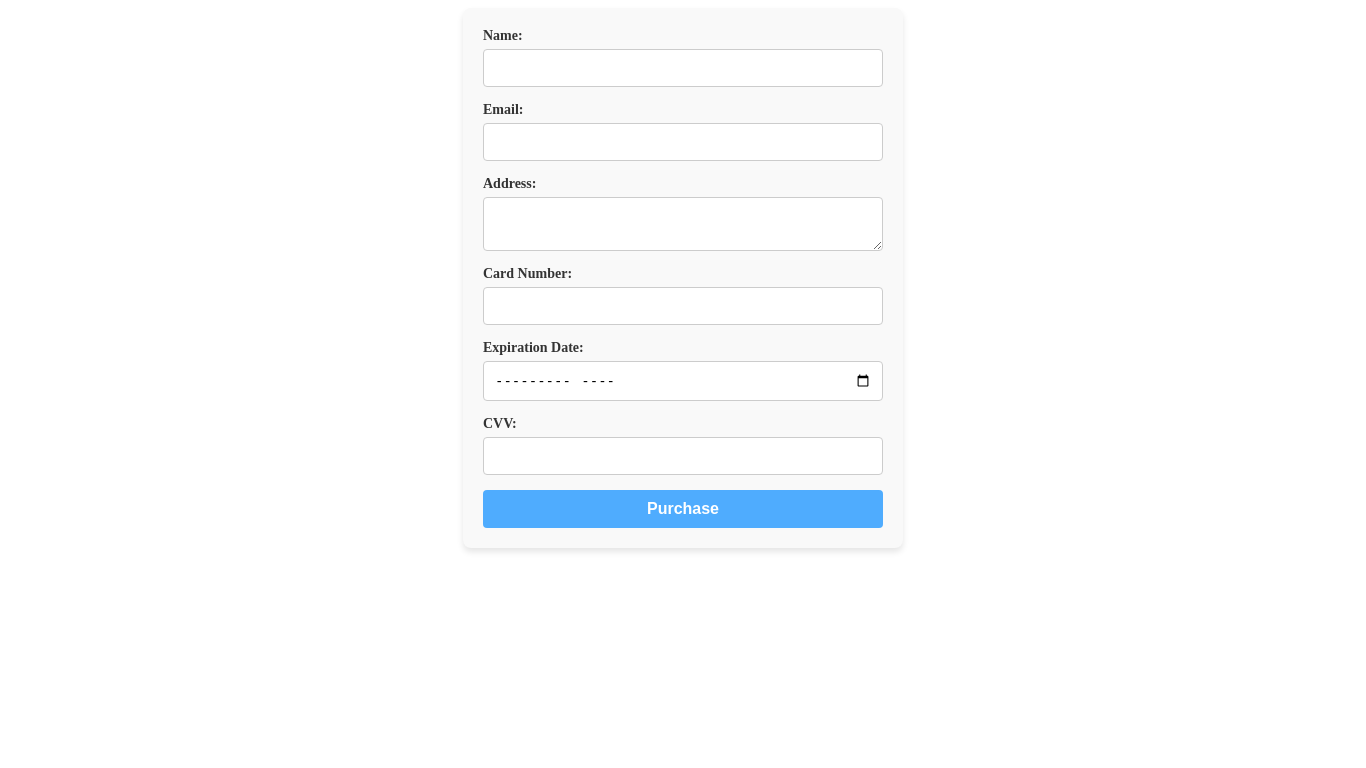
Test: form correctly handles purchases
Note: Simulate user input
Type "John Doe" into the field labelled "Name:" at (683, 68), box [483, 49, 883, 87]
Type "john.doe@example.com" into the field labelled "Email:" at (683, 142), box [483, 123, 883, 161]
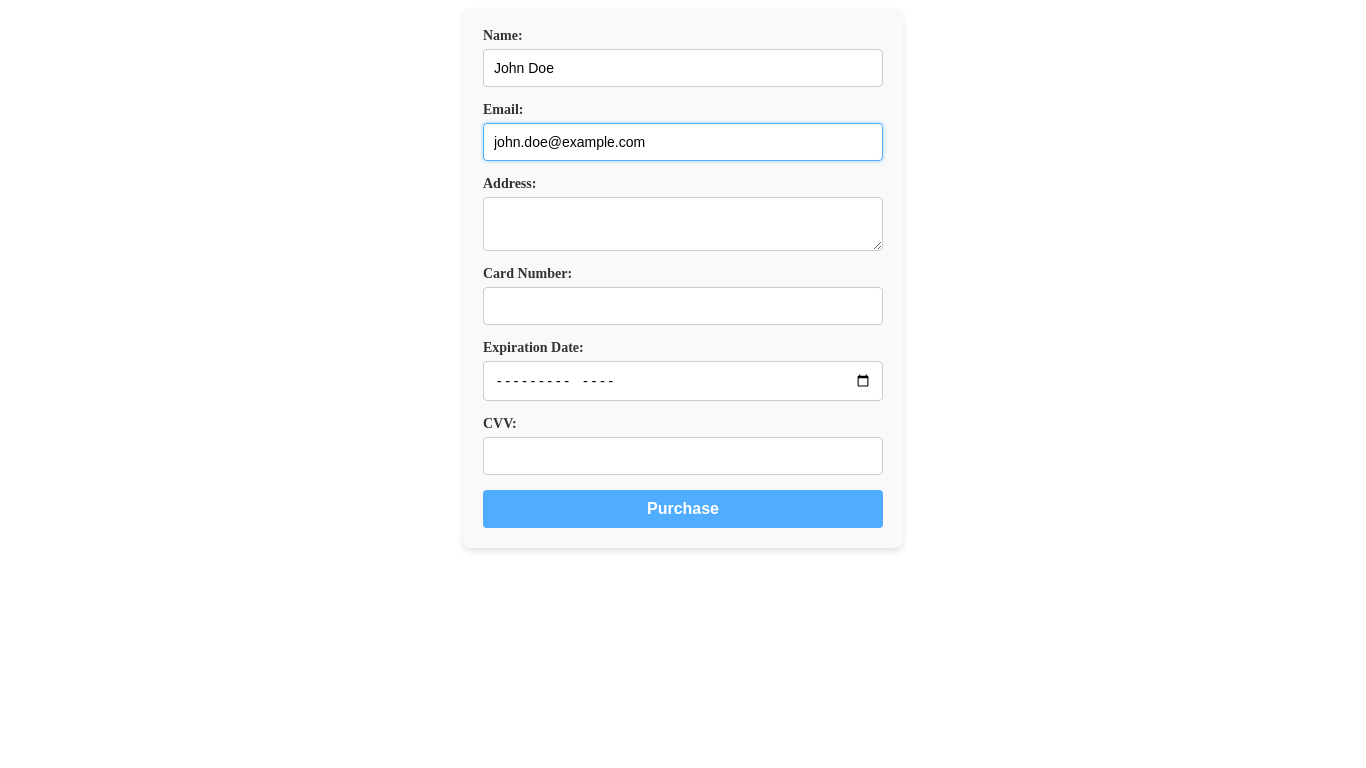
Type "123 Main St" into the text box labelled "Address:" at (683, 224), box [483, 197, 883, 251]
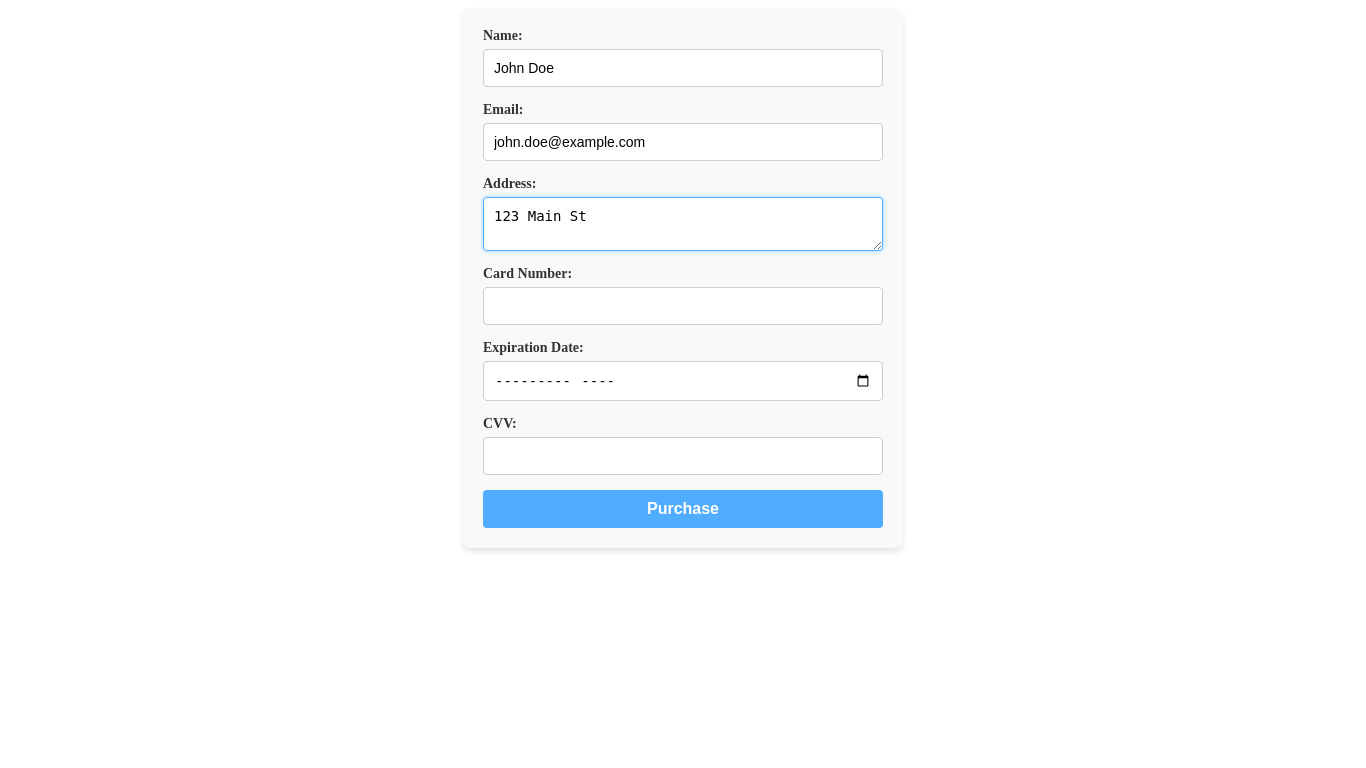
Type "4111111111111111" into the field labelled "Card Number:" at (683, 306), box [483, 287, 883, 325]
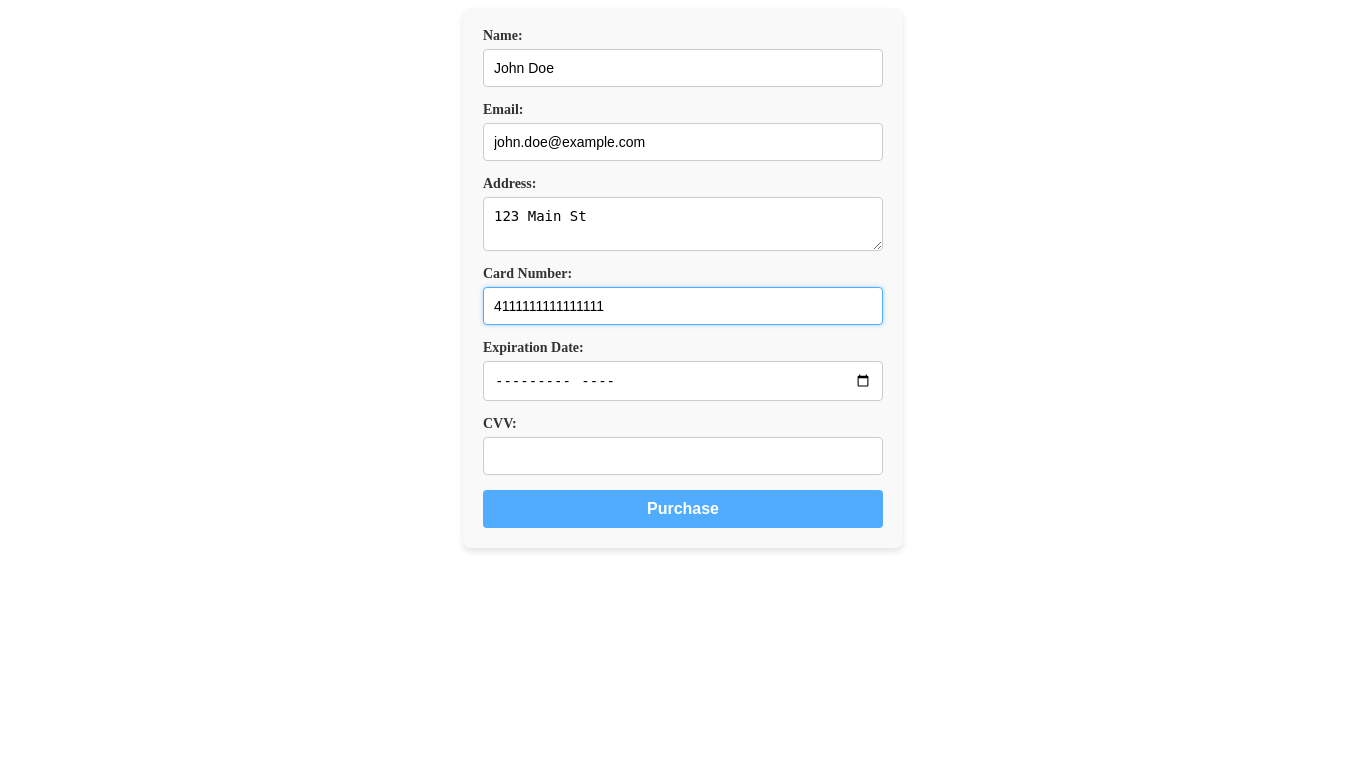
Note: Valid test card number
Type "2025-12" into the field labelled "Expiration Date:" at (683, 381), box [483, 361, 883, 401]
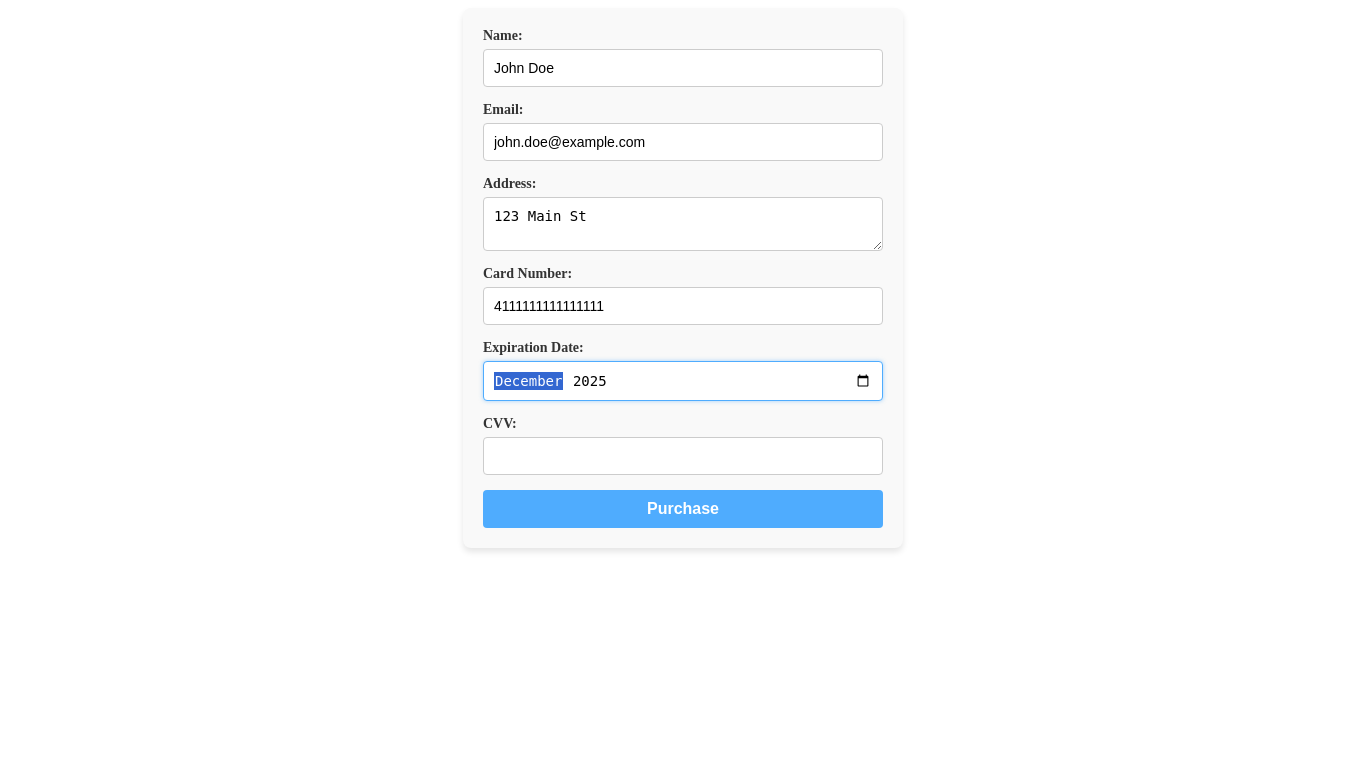
Type "123" into the password field labelled "CVV:" at (683, 456), box [483, 437, 883, 475]
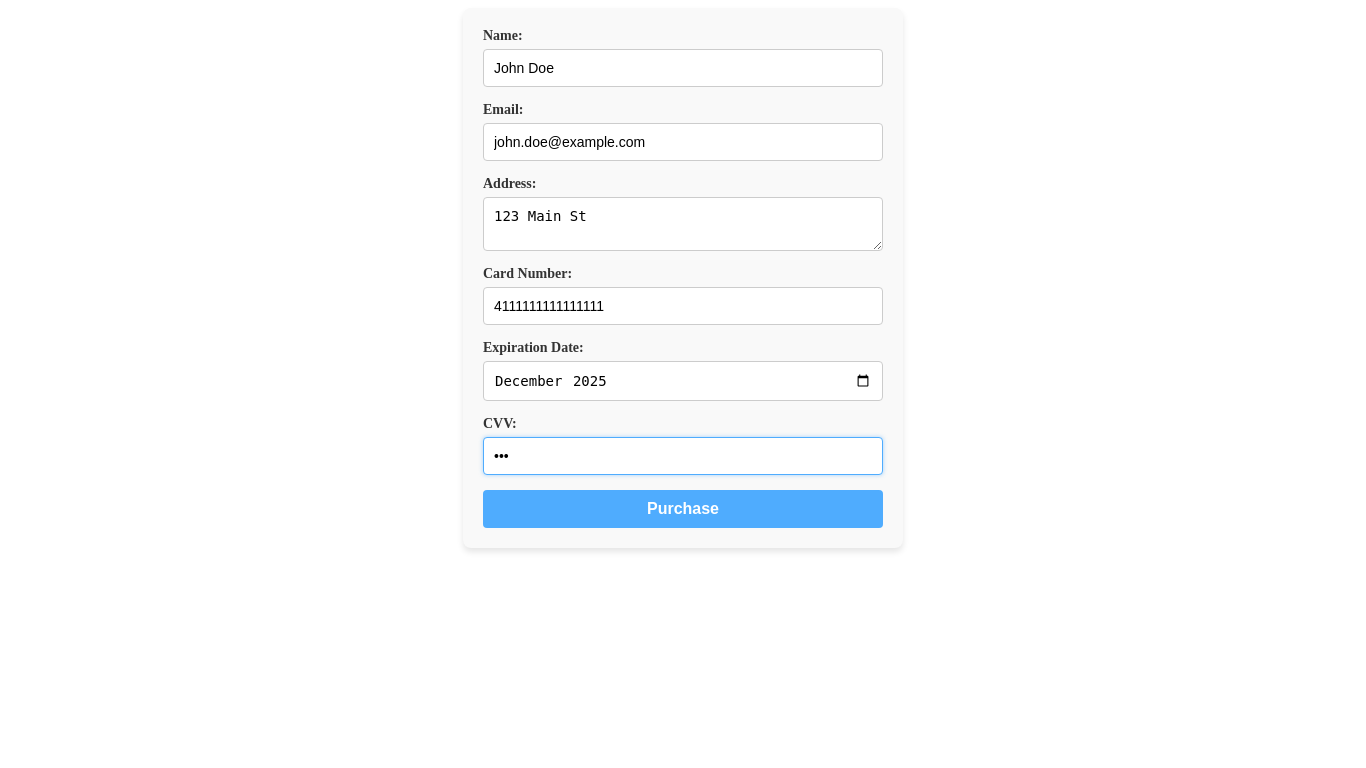
Note: Click the purchase button
Click the button "Purchase" at (683, 509), box [483, 490, 883, 528]
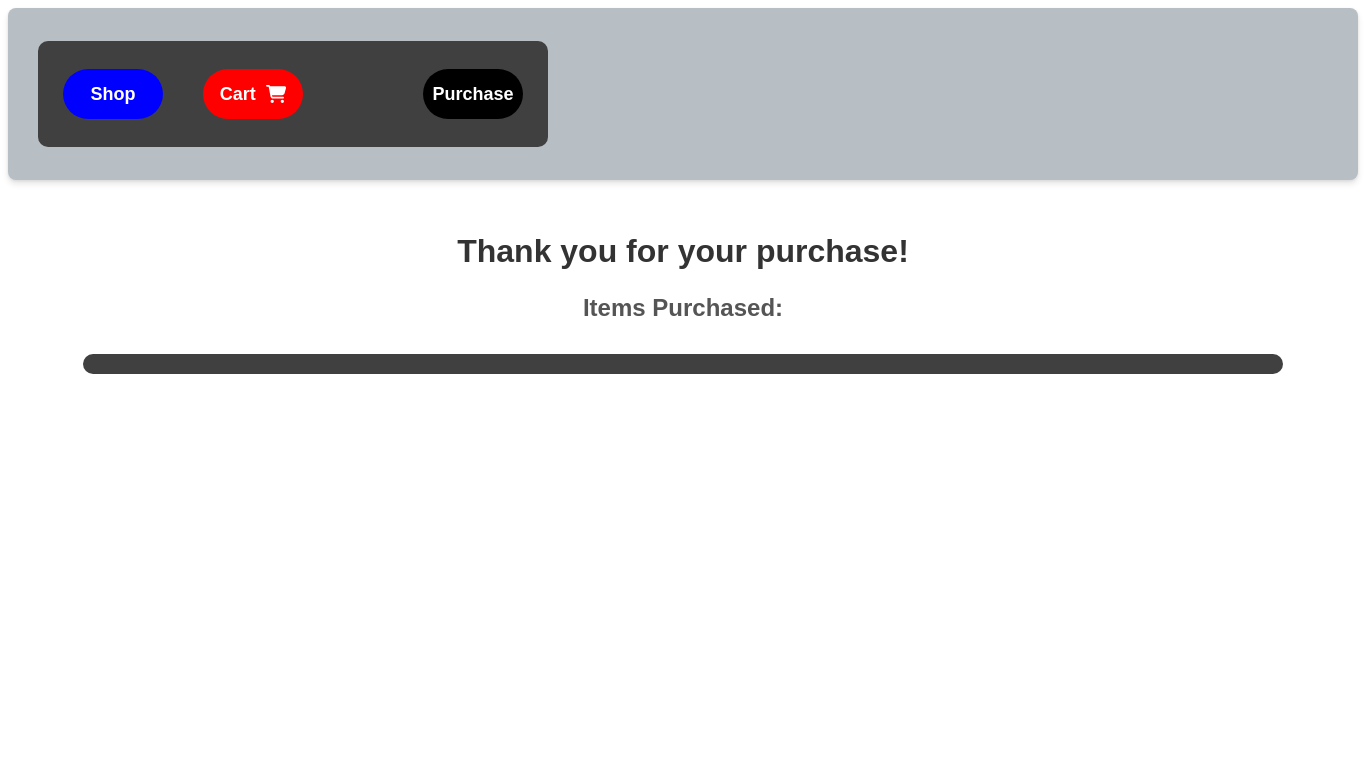
Expected: the heading "Thank you for your purchase!" is shown, [457, 233, 909, 269]
